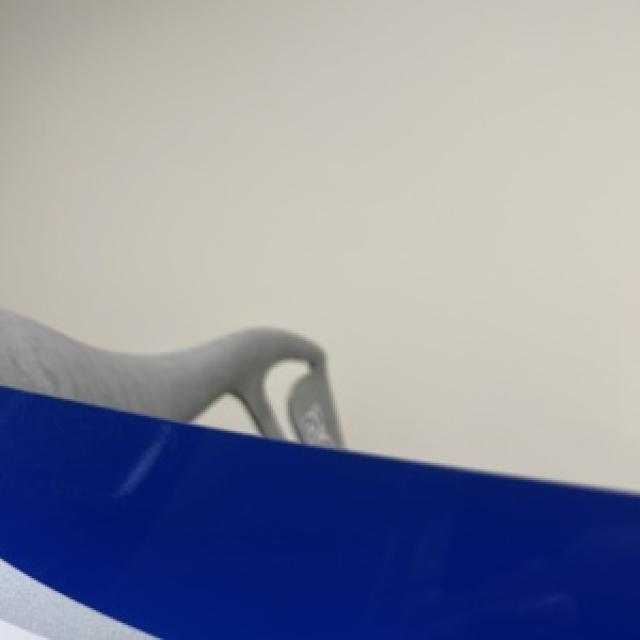healthy: (4, 307, 339, 446)
